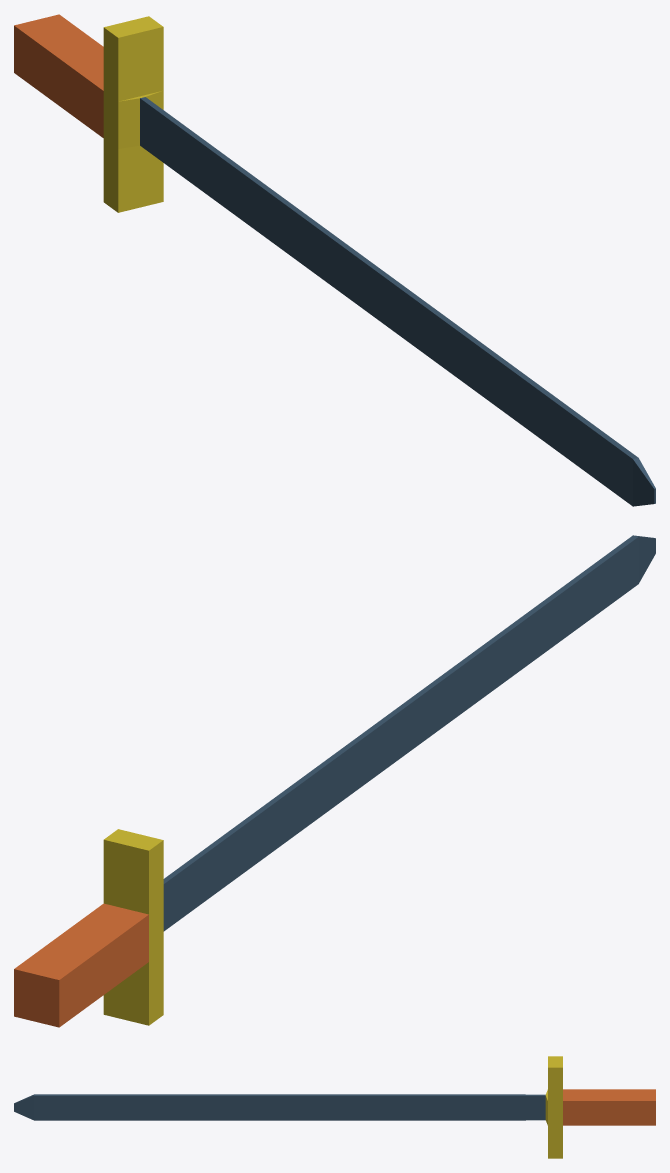
The model's file is sword.dae.
3 renders of one model, top to bottom at view 1: azimuth 30°, elevation 25°; view 2: azimuth 150°, elevation 25°; view 3: azimuth 270°, elevation 25°, orthographic. The views are drawn at different scales.
Parts seen in each view (by area): view 1: Cube; view 2: Cube; view 3: Cube.
Boxes of the visible parts, x1,y1,x2,y2 form: Cube: (14,14,655,506); Cube: (14,535,655,1027); Cube: (14,1056,655,1158).
Size of the model in its own units: 0.0351 by 0.8296 by 0.1295.
